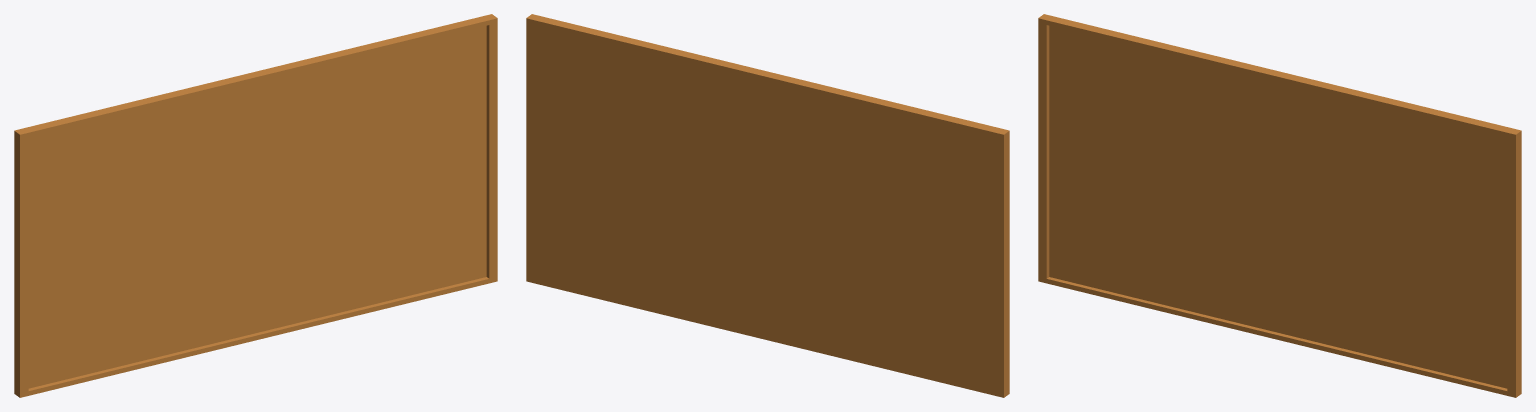
Rendered from cork.gltf.
3 renders of one model, left to right at view 1: azimuth 30°, elevation 25°; view 2: azimuth 150°, elevation 25°; view 3: azimuth 330°, elevation 25°, orthographic.
Parts seen in each view (by area): view 1: pCube1; view 2: pCube1; view 3: pCube1.
Part boxes in pixels (<box>): pCube1: <box>14,14,497,397</box>; pCube1: <box>526,14,1009,397</box>; pCube1: <box>1038,14,1521,397</box>.
Size of the model in its own units: 7.95 by 4.18 by 0.1679.
